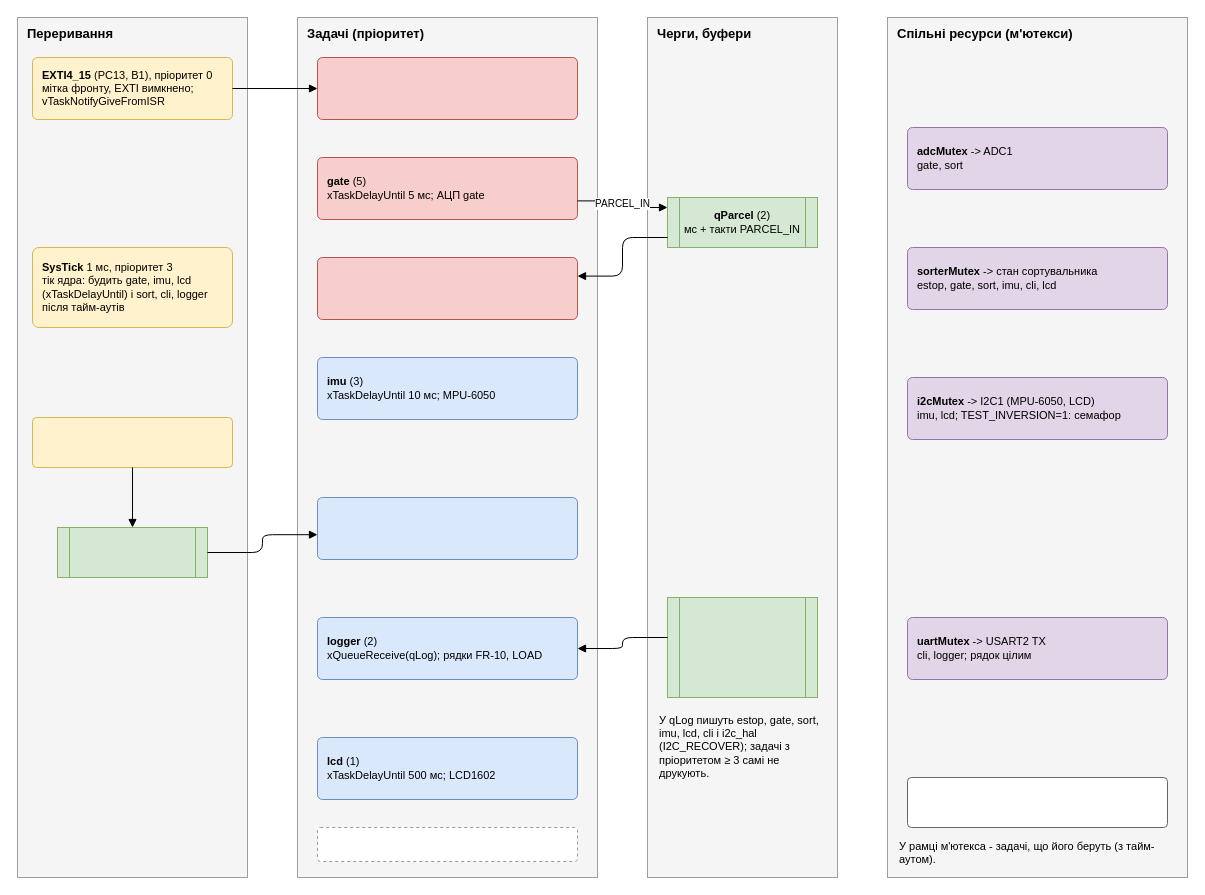
The diagram is 1205 pixels wide and 895 high, and some of its shapes have lost their labels. Here are the shapes that lost their labels. From the top down, the centre of each, then its label:
At (447,88): "estop (6) ulTaskNotifyTake; антибрязкіт 20 мс".
At (447,288): "sort (4) xQueueReceive(qParcel); АЦП class, серво".
At (132,442): "USART2 RXNE, пріоритет 2 xStreamBufferSendFromISR".
At (447,528): "cli (2) xStreamBufferReceive; команди CLI".
At (132,552): "sbUartRx (64 B) stream buffer".
At (742,647): "qLog (16) подія, формат, аргументи xQueueSend(..., 0)".
At (1037,802): "TIM3 CH1 -> серво (PA6): sort і estop".
At (447,844): "idle (0): LOAD = 100 % - частка idle".
